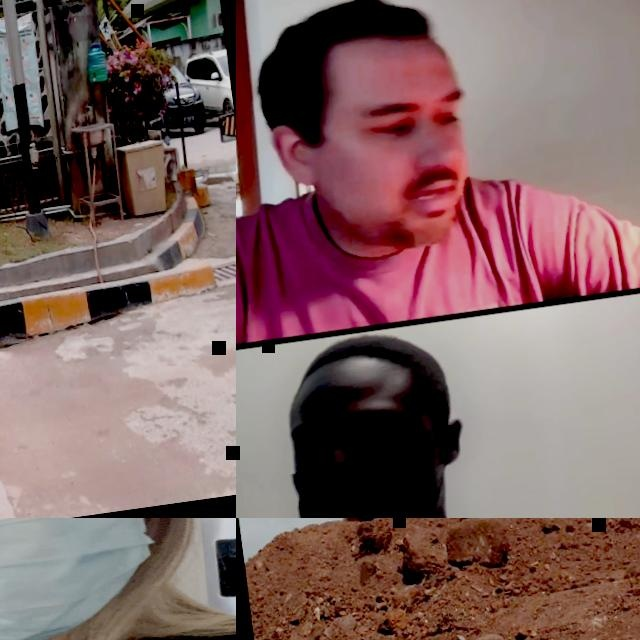Mask: (0, 518, 172, 640)
NO-Hardhat: (245, 0, 458, 98), (277, 324, 451, 411)
NO-Mask: (329, 166, 476, 262), (284, 445, 462, 518)
NO-Safety Vest: (236, 168, 557, 348), (0, 593, 236, 640)
Person: (236, 0, 640, 365), (236, 298, 640, 518), (0, 518, 236, 640)
vehicle: (141, 51, 210, 141), (179, 44, 236, 128)
